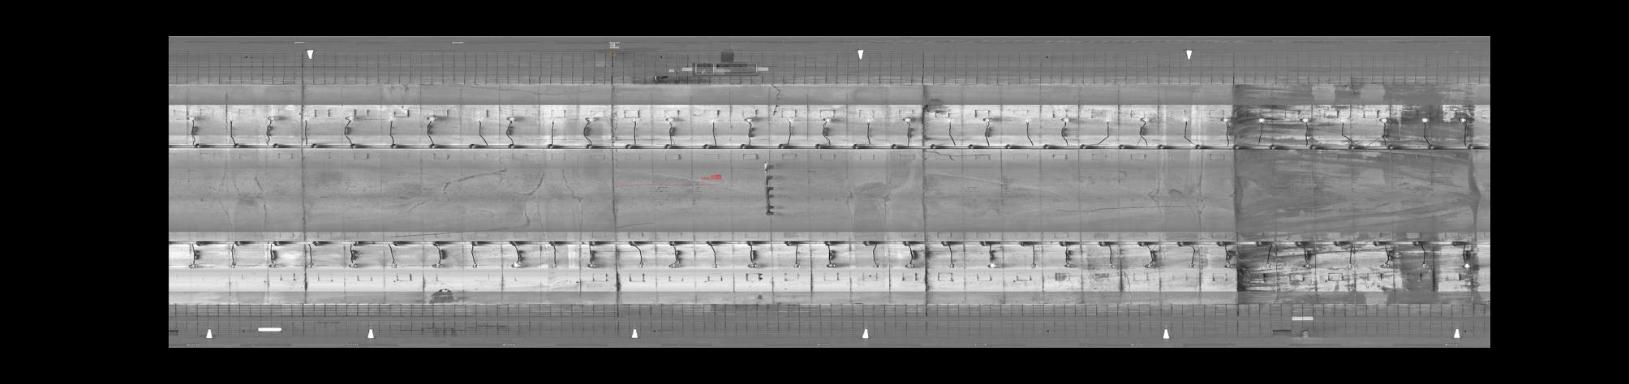light: (667, 259, 686, 272), (339, 111, 355, 125), (1374, 112, 1391, 126), (421, 111, 437, 124), (502, 112, 518, 125), (1220, 260, 1238, 271), (658, 114, 677, 124), (742, 260, 762, 270), (1134, 114, 1152, 125), (1456, 260, 1473, 271), (1298, 260, 1315, 271), (1143, 260, 1160, 271), (262, 112, 277, 124), (543, 114, 559, 126), (1059, 113, 1074, 125), (709, 260, 724, 272), (635, 259, 650, 271), (625, 114, 642, 125), (1296, 114, 1312, 125), (789, 260, 805, 271), (1335, 114, 1350, 126), (739, 114, 756, 124), (898, 114, 915, 124), (507, 260, 525, 270), (1341, 260, 1357, 271), (1060, 260, 1075, 271), (185, 260, 201, 271), (578, 114, 594, 124), (1414, 260, 1433, 269), (382, 113, 397, 124), (1176, 113, 1191, 124), (1217, 114, 1231, 125), (1456, 114, 1470, 125), (817, 115, 834, 124), (429, 260, 445, 270), (298, 114, 311, 126), (704, 114, 717, 126), (1418, 113, 1431, 125), (1104, 260, 1117, 272), (303, 259, 316, 271), (944, 260, 958, 271), (226, 260, 240, 271), (1377, 260, 1393, 269), (822, 260, 838, 269), (470, 114, 484, 124), (985, 260, 999, 270), (346, 260, 360, 270), (265, 260, 279, 270), (1262, 260, 1275, 271), (1184, 262, 1200, 270), (386, 260, 402, 269), (184, 114, 197, 124), (942, 114, 956, 124), (980, 114, 993, 124), (1252, 116, 1269, 124), (869, 263, 883, 271), (584, 260, 598, 269), (548, 260, 562, 269), (468, 260, 482, 269), (225, 114, 237, 125), (1100, 114, 1113, 124), (1027, 260, 1040, 270), (902, 260, 915, 269), (1020, 117, 1034, 125), (784, 114, 794, 124), (861, 116, 872, 125)
